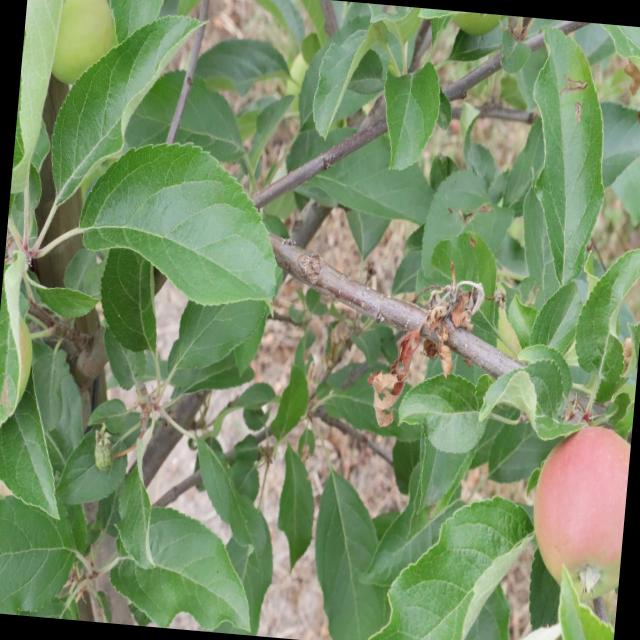-FireBlight-: (359, 280, 487, 427)
